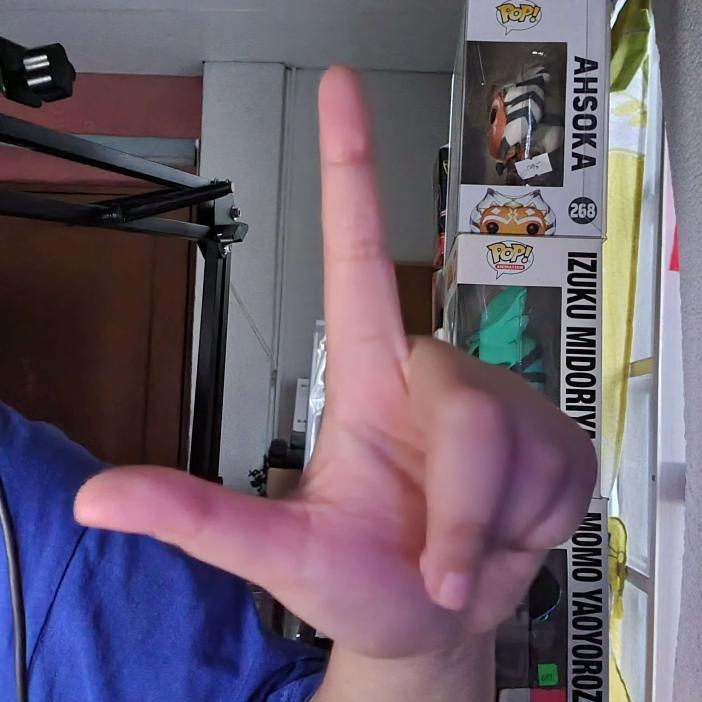l: (73, 62, 598, 657)
